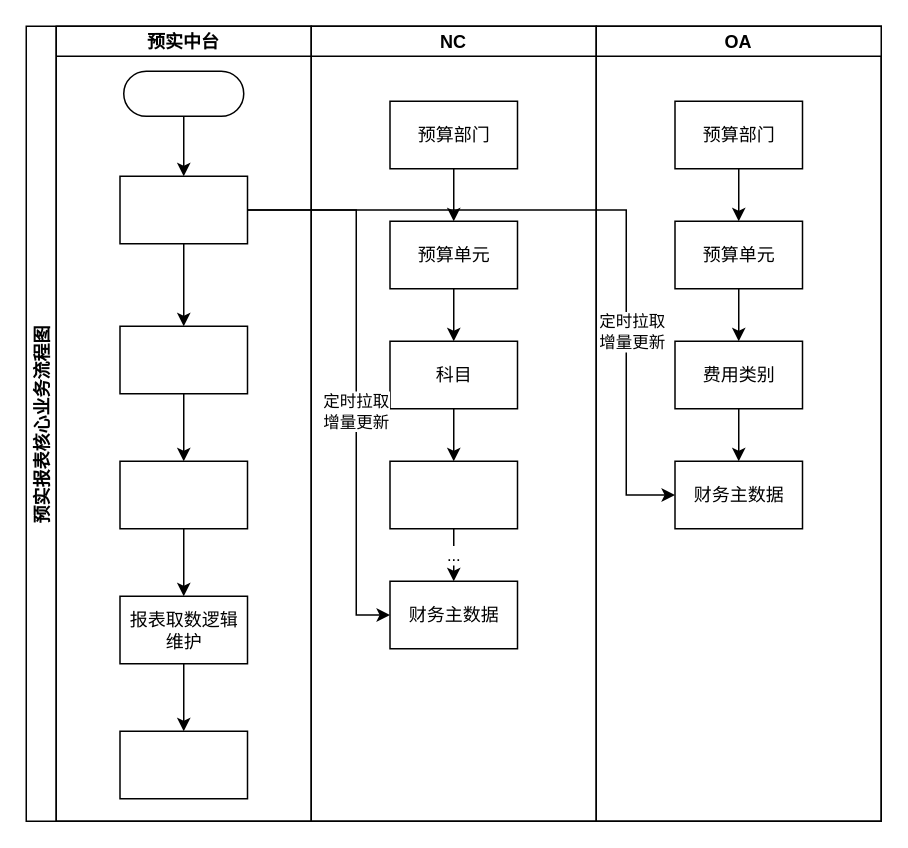
The diagram is 908 pixels wide and 848 high, and some of its shapes have lost their labels. Here are the shapes that lost their labels. From the top down, the centre of each, then its label:
At point 183,93: "中台用户".
At point 183,209: "数据同步".
At point 183,359: "NC/OA基础数据对照维护".
At point 183,494: "要素对照维护".
At point 453,494: "总账".
At point 183,764: "生成报表".
